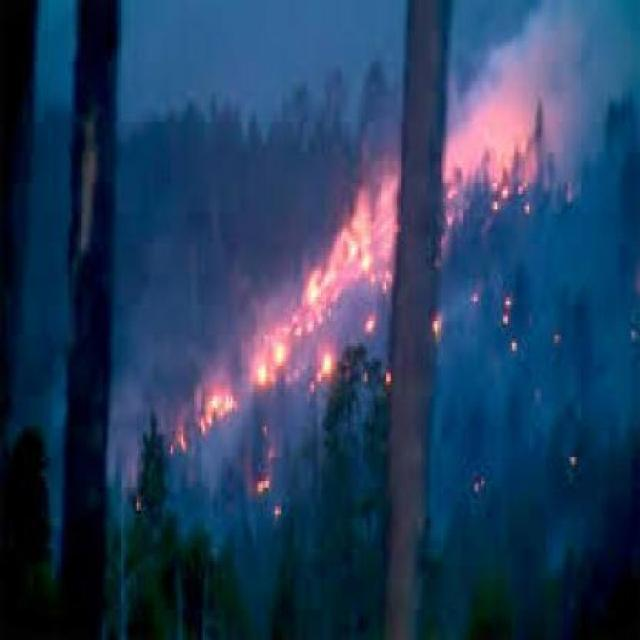Fire: (206, 176, 422, 486)
